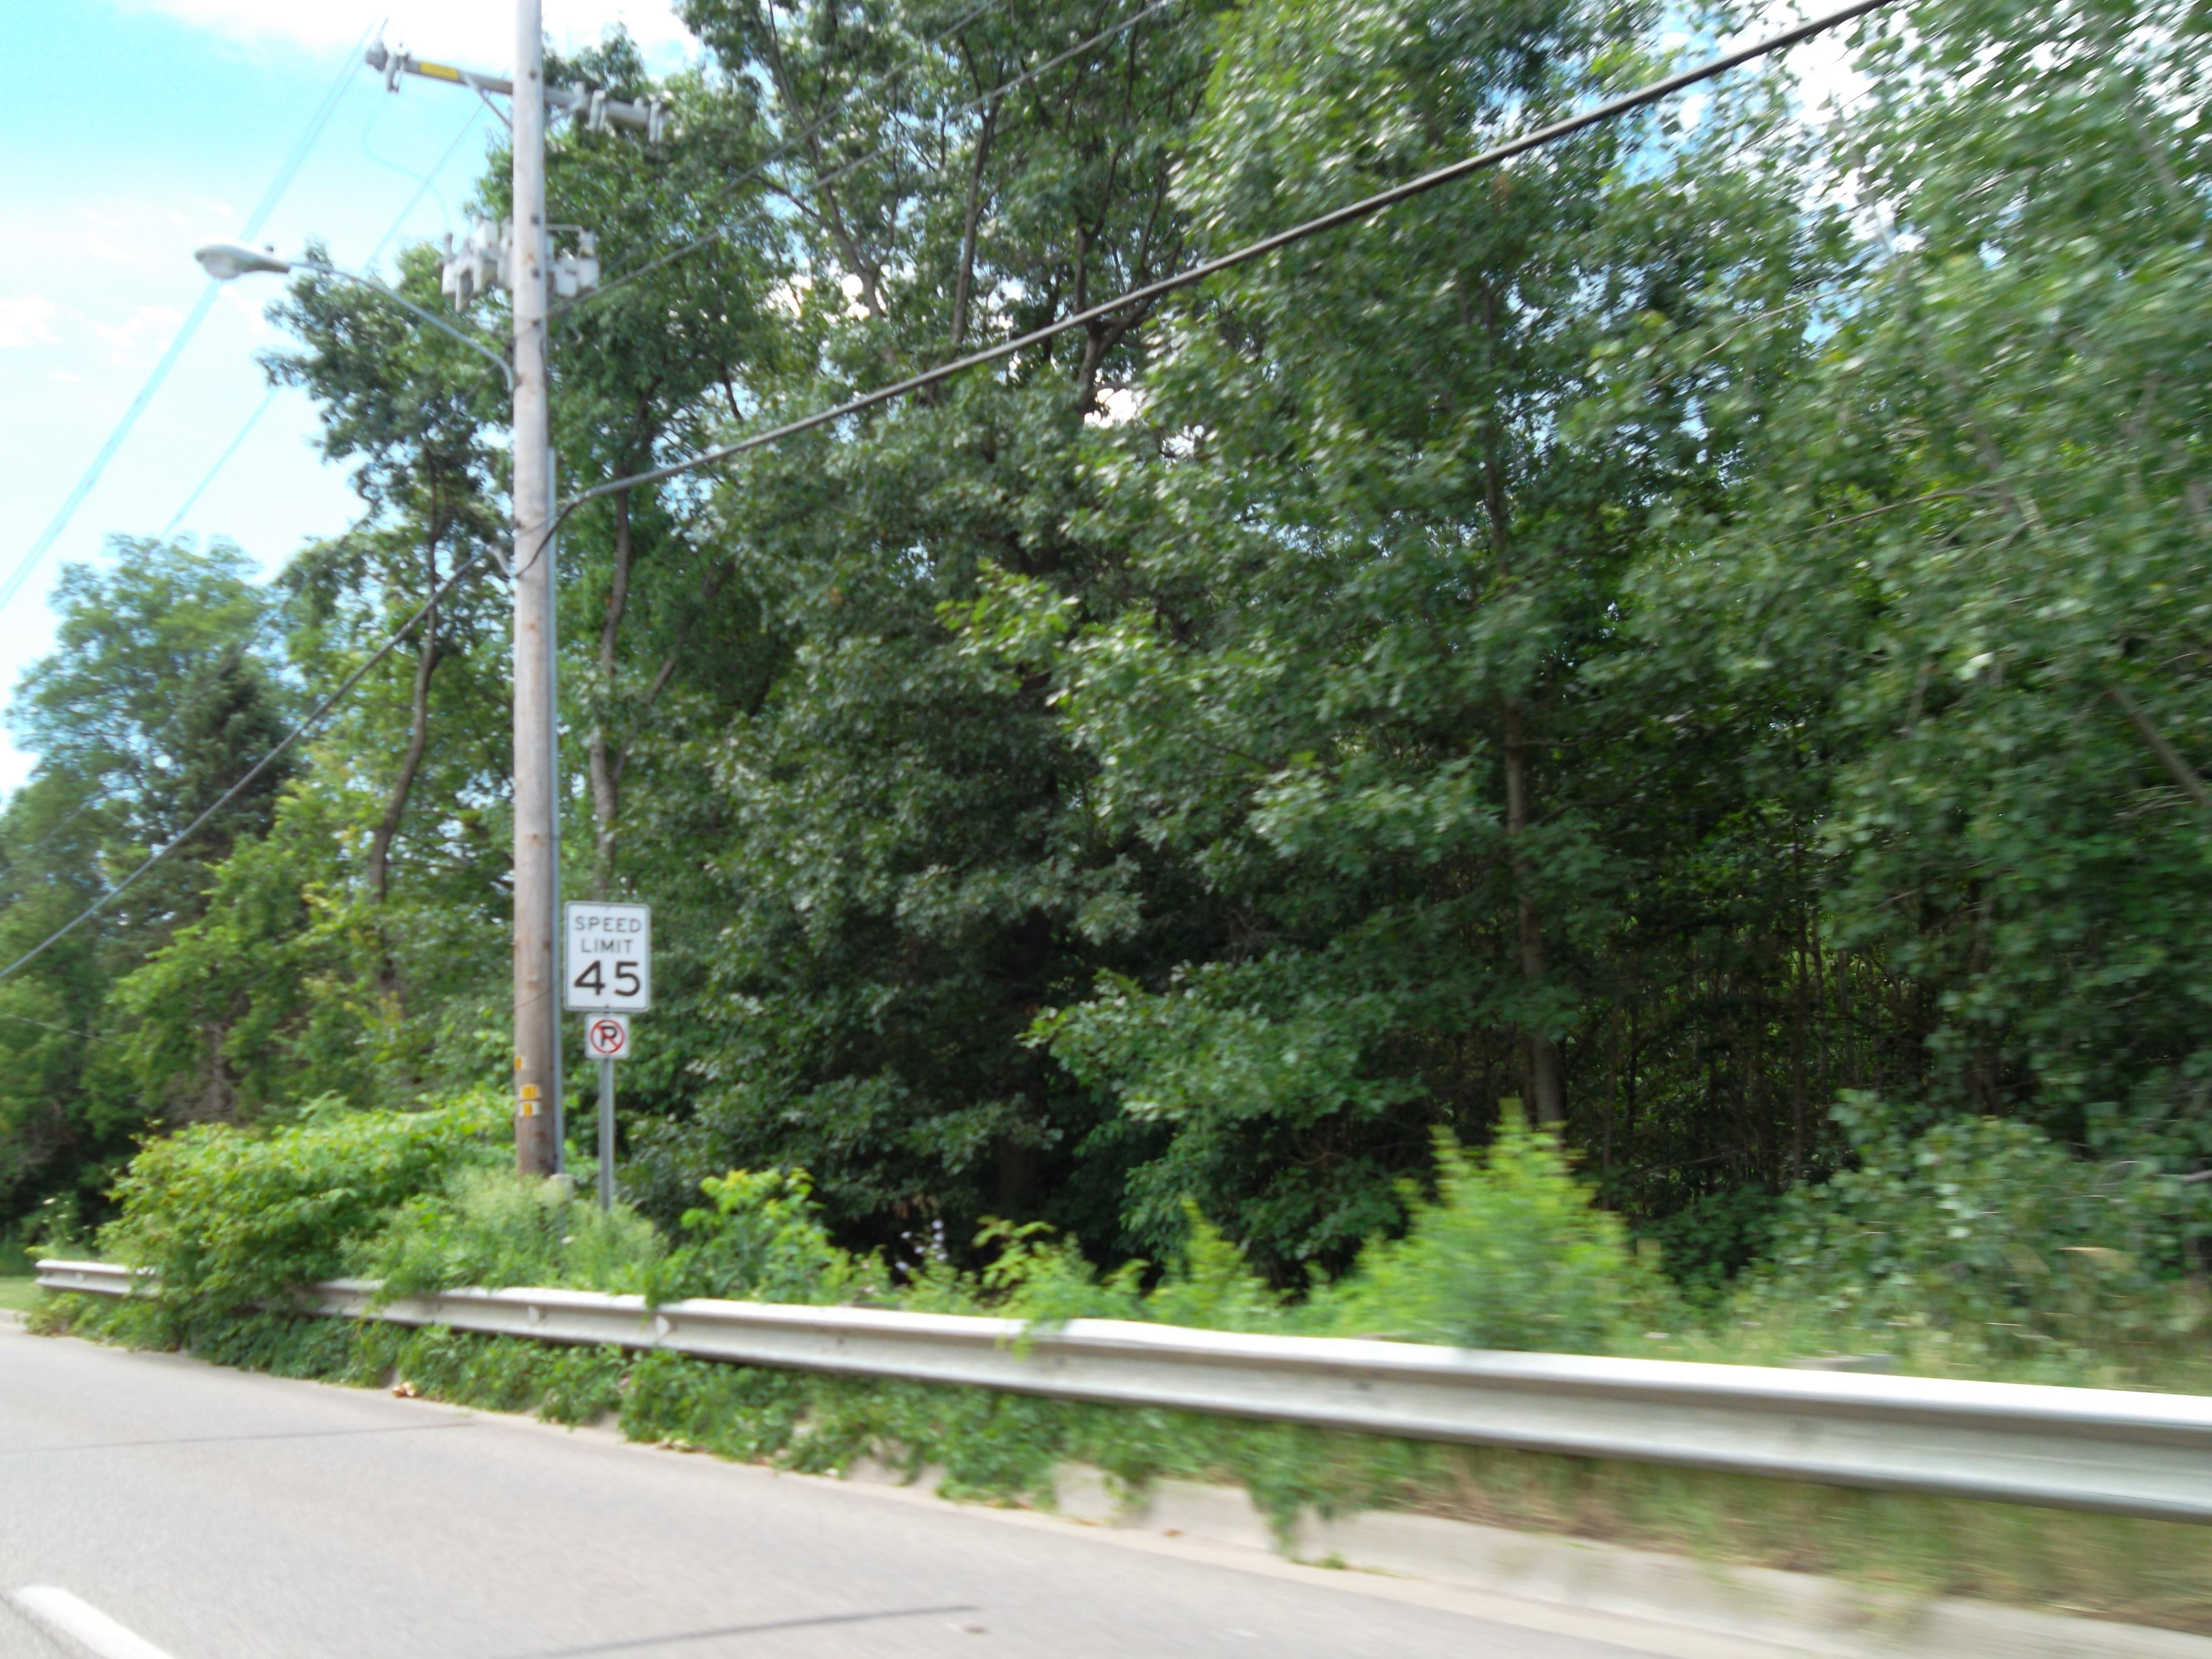regulatory: (559, 887, 657, 1025)
